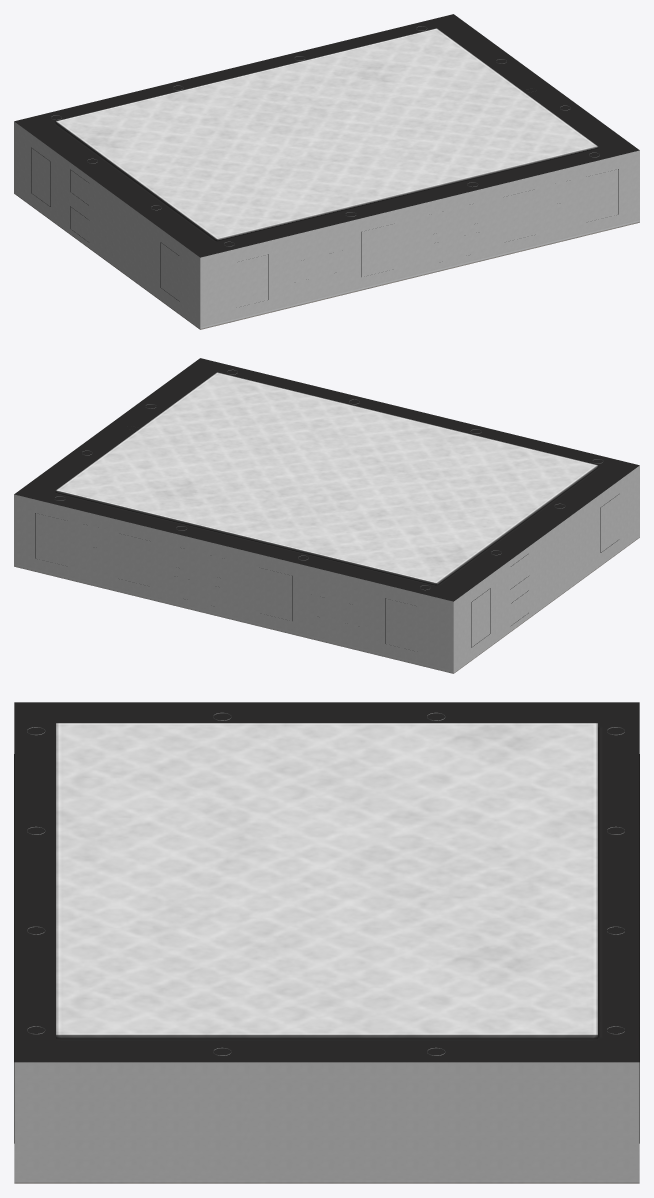
Rendered from art_gallery.glb.
The picture shows the model from 3 angles, top to bottom: view 1: azimuth 30°, elevation 25°; view 2: azimuth 150°, elevation 25°; view 3: azimuth 270°, elevation 25°; orthographic projection. The views are drawn at different scales.
Parts seen in each view (by area): view 1: Art_Room_1; view 2: Art_Room_1; view 3: Art_Room_1.
Boxes of the visible parts, x1,y1,x2,y2 form: Art_Room_1: (14, 14, 639, 329); Art_Room_1: (14, 358, 639, 673); Art_Room_1: (14, 702, 639, 1183).
Bounding box in the file's own units: 27.64 × 4.46 × 20.29.
1 material, 1 textured.
